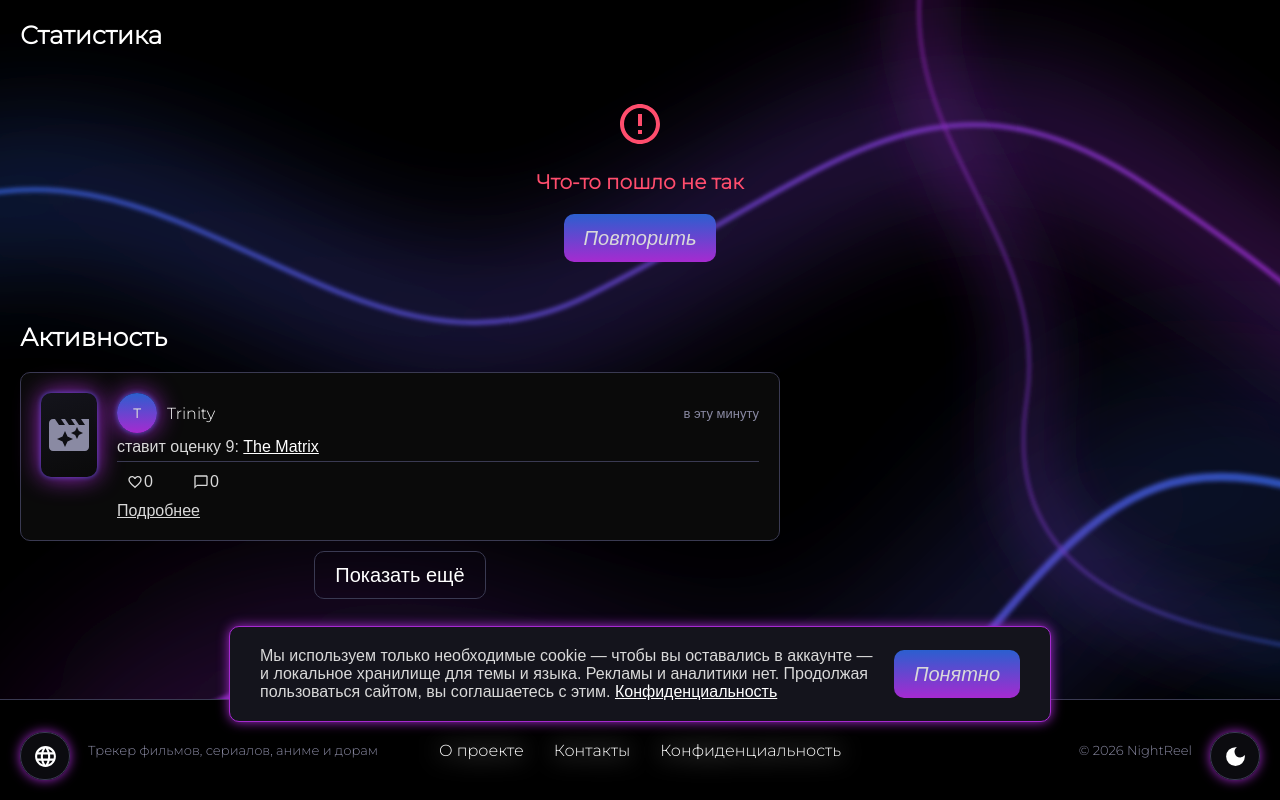
Profile page › loads older events with 'show more'
(page scrolled)
Click the button "Показать ещё" at x=400, y=575, box [314, 551, 486, 599]
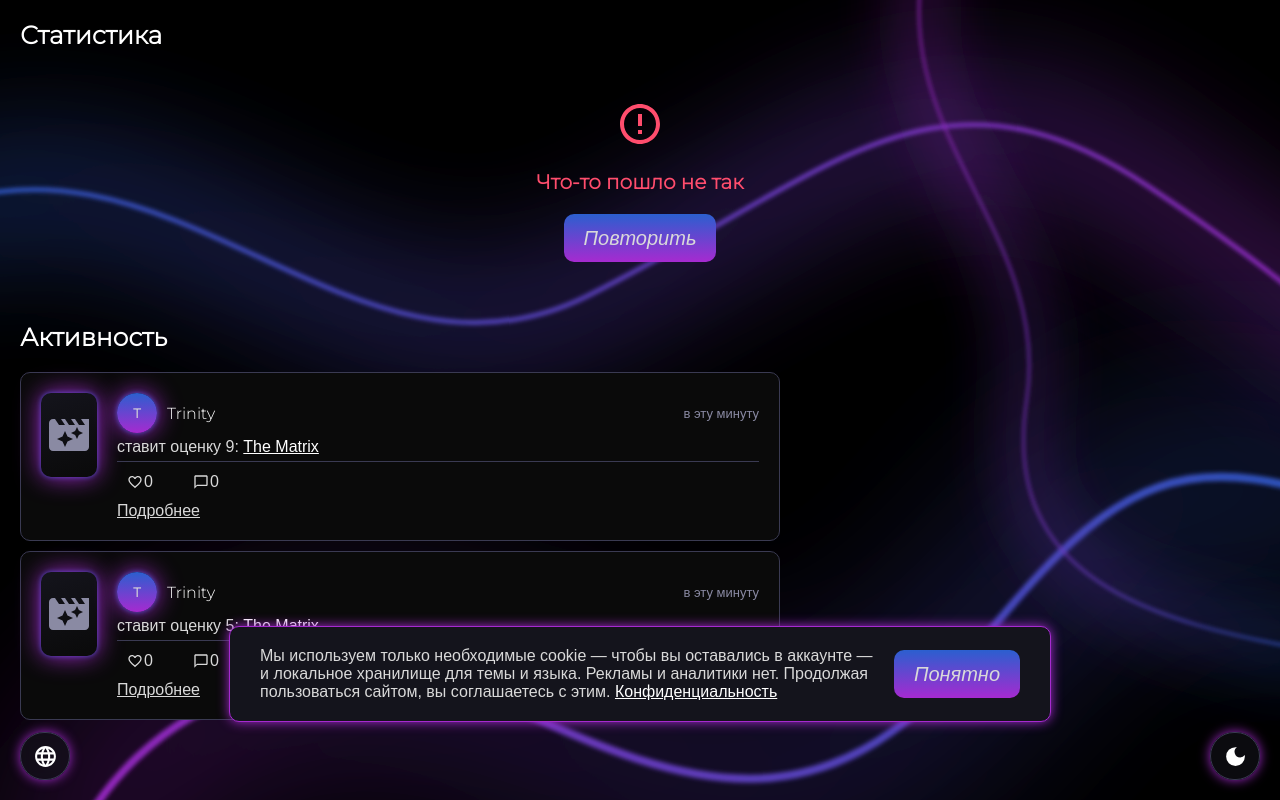
Now the text "ставит оценку 5: The Matrix" is shown, box [117, 617, 319, 634]
Now the button "Показать ещё" is gone
